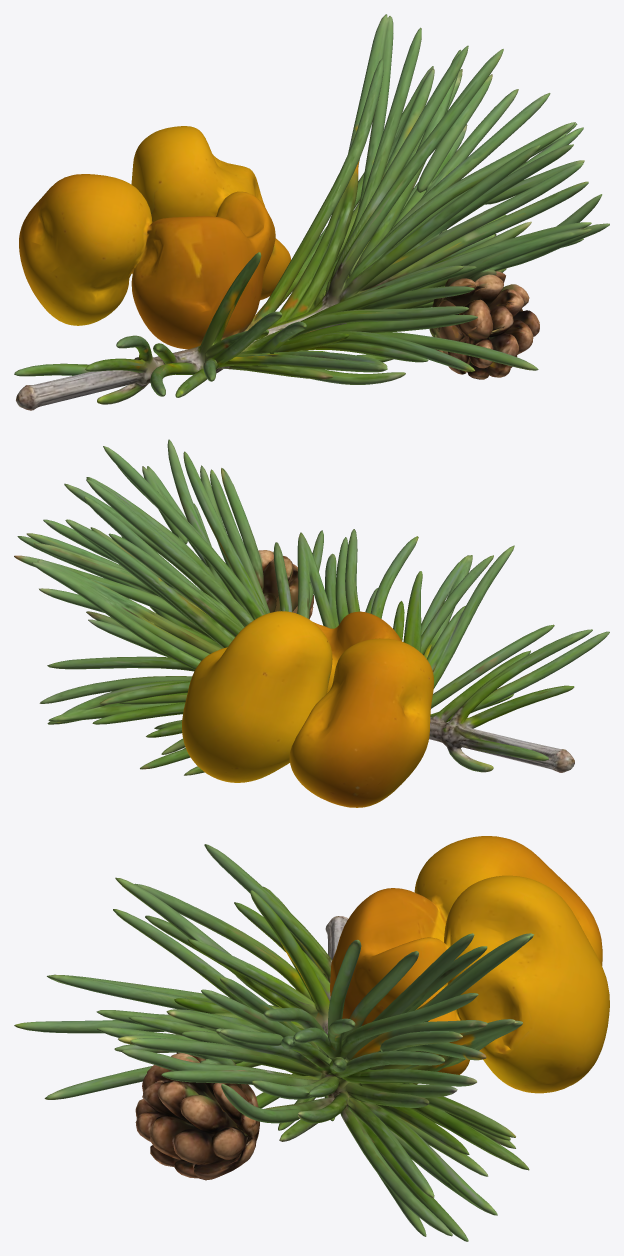
Rendered from songxiang.glb.
3 views of the same model, one above another, from view 1: azimuth 30°, elevation 25°; view 2: azimuth 150°, elevation 25°; view 3: azimuth 270°, elevation 25° (orthographic). The views are drawn at different scales.
Parts seen in each view (by area): view 1: node_0; view 2: node_0; view 3: node_0.
Part boxes in pixels (left/top/right/bottom): node_0: left=14, top=14, right=609, bottom=410; node_0: left=14, top=439, right=609, bottom=807; node_0: left=14, top=836, right=609, bottom=1241.
Size of the model in its own units: 1.11 by 0.5225 by 0.9333.
1 material, 1 textured.
